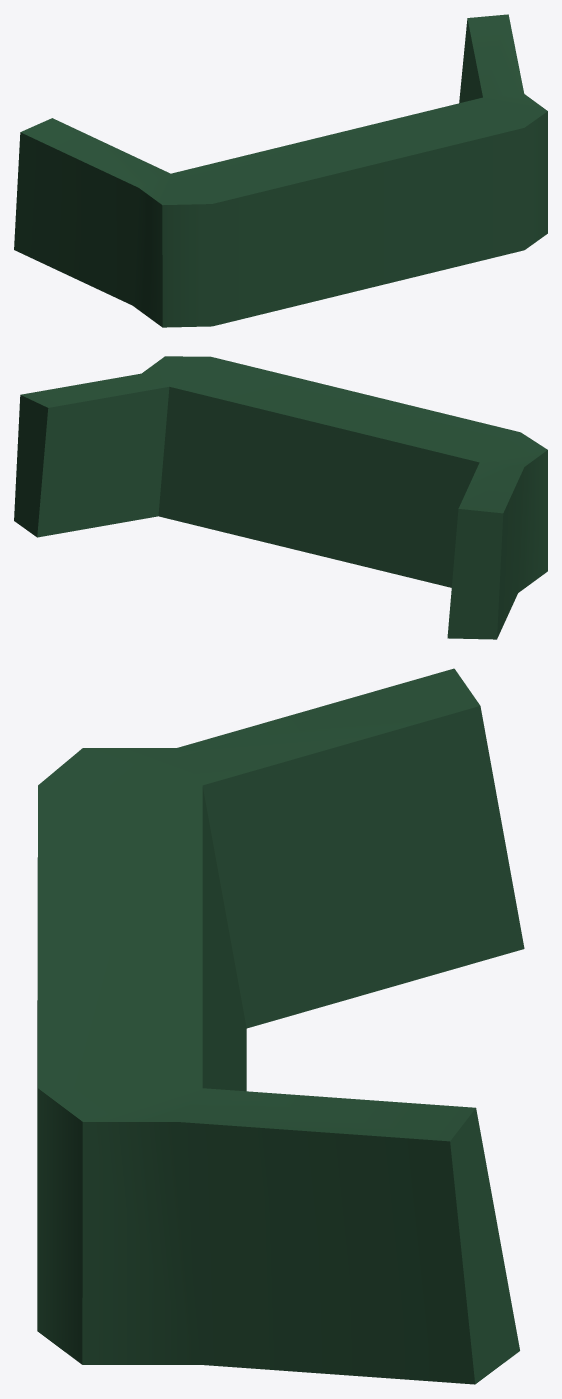
Rendered from wall3.fbx.
The picture shows the model from 3 angles, top to bottom: view 1: azimuth 30°, elevation 25°; view 2: azimuth 150°, elevation 25°; view 3: azimuth 270°, elevation 25°; orthographic projection. The views are drawn at different scales.
Visible parts, largest first — view 1: wall3; view 2: wall3; view 3: wall3.
Part boxes in pixels (left/top/right/bottom): wall3: left=14, top=14, right=547, bottom=327; wall3: left=14, top=356, right=547, bottom=639; wall3: left=37, top=668, right=524, bottom=1384.
Bounding box in the file's own units: 323 × 87.94 × 141.
